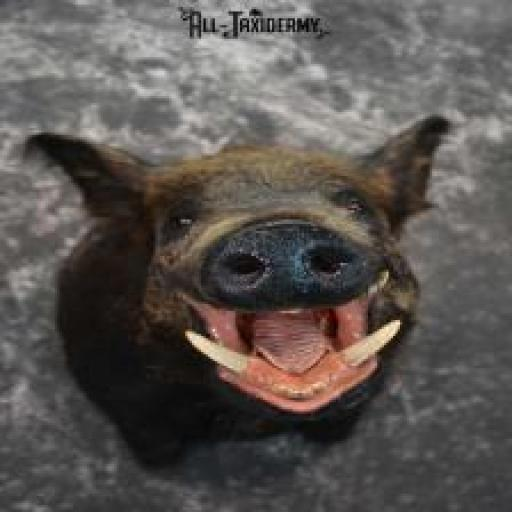Pig: (23, 117, 448, 466)
